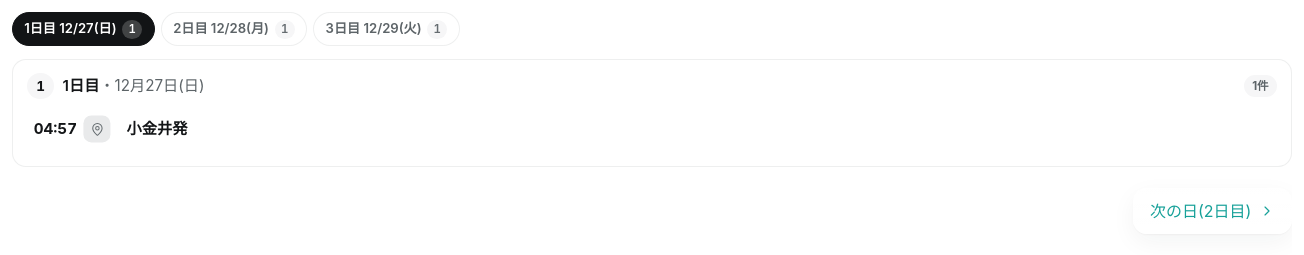
Scenario: 日程を、日にちごとに切り替える › 前の日・次の日のボタンで、1日を読み終えたまま進める。端の日では、行き止まりのほうを出さない
The image size is (1304, 255).
Expected: the button "前の日" is not shown
Click the button "次の日(2日目)" at x=1212, y=211, box [1132,188,1292,234]
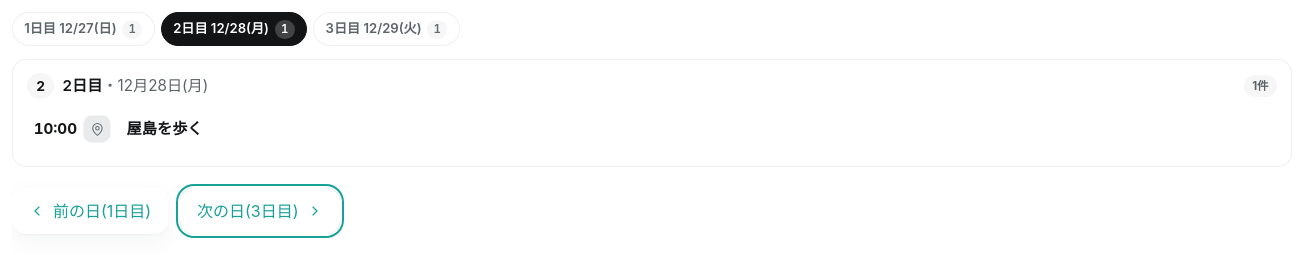
Expected: the text "屋島を歩く" is shown, [127,119,202,138]
Expected: the button "前の日(1日目)" is shown, [12,188,168,234]
Click the button "次の日(3日目)" at x=260, y=211, box [180,188,340,234]
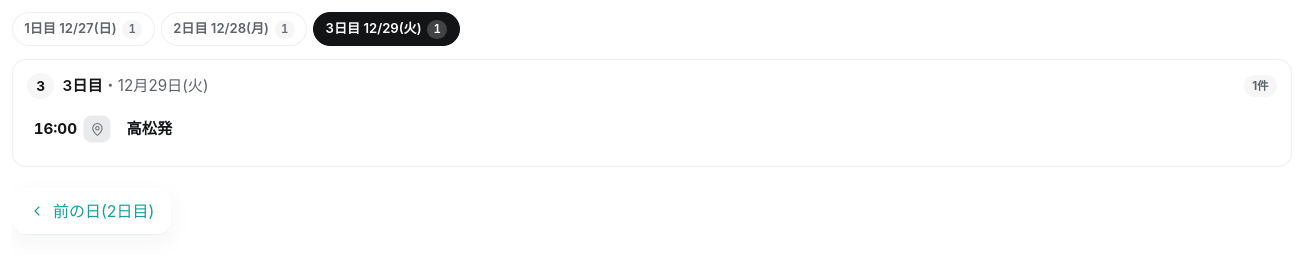
Expected: the text "高松発" is shown, [127,119,172,138]
Expected: the button "次の日" is gone
Click the button "前の日(2日目)" at x=92, y=211, box [12,188,172,234]
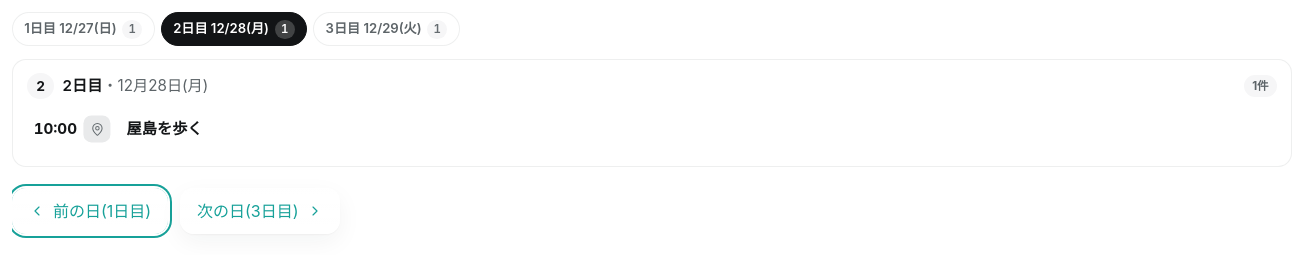
Expected: the text "屋島を歩く" is shown, [127,119,202,138]
